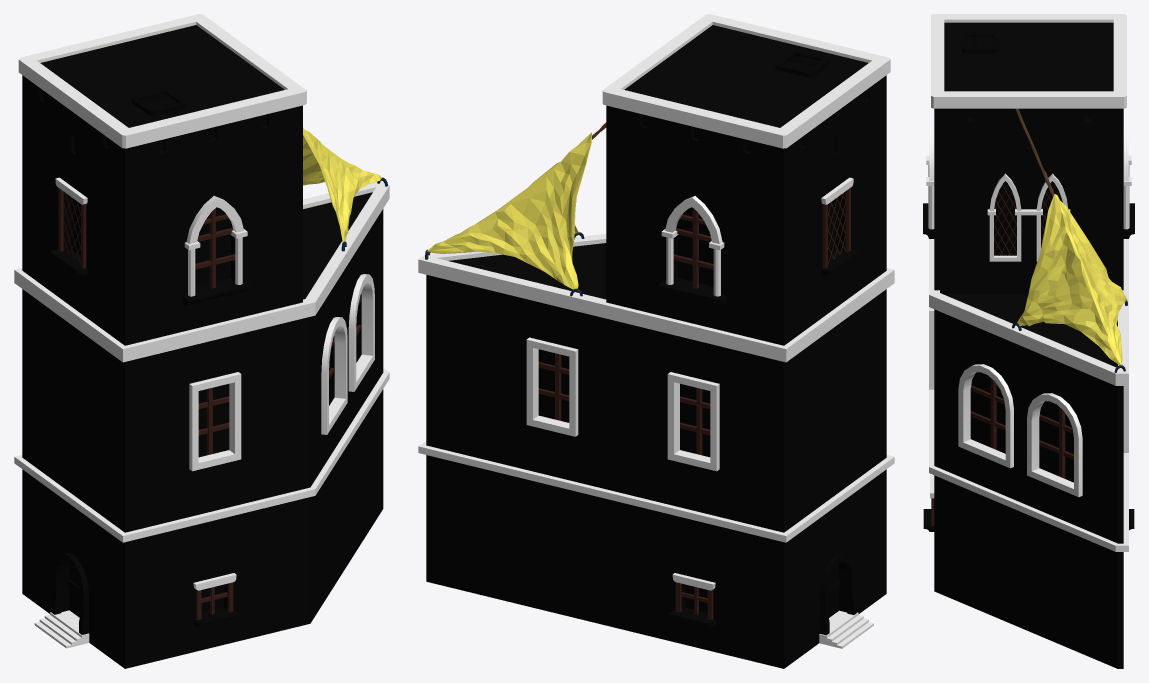
Rendered from civilian_house_02.FBX.
3 renders of one model, left to right at view 1: azimuth 30°, elevation 25°; view 2: azimuth 150°, elevation 25°; view 3: azimuth 270°, elevation 25°, orthographic. The views are drawn at different scales.
Parts seen in each view (by area): view 1: civilian_house_02; view 2: civilian_house_02; view 3: civilian_house_02.
Boxes of the visible parts, <box> form: civilian_house_02: <box>14,14,389,668</box>; civilian_house_02: <box>418,14,894,668</box>; civilian_house_02: <box>923,14,1134,668</box>.
Size of the model in its own units: 1519 by 2017 by 784.
